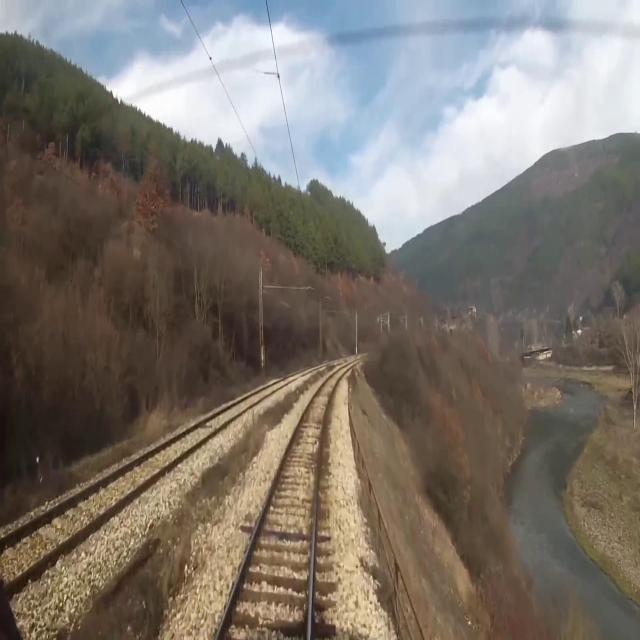rail-track: (0, 392, 262, 584), (219, 372, 340, 639)
